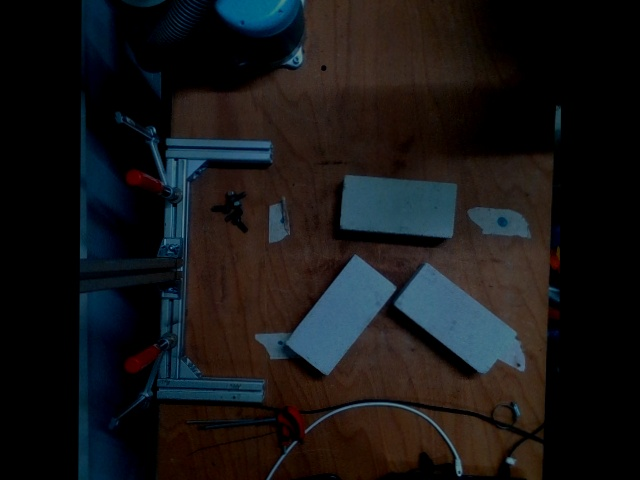brick: (392, 260, 519, 378), (285, 255, 397, 376), (343, 177, 457, 236)
